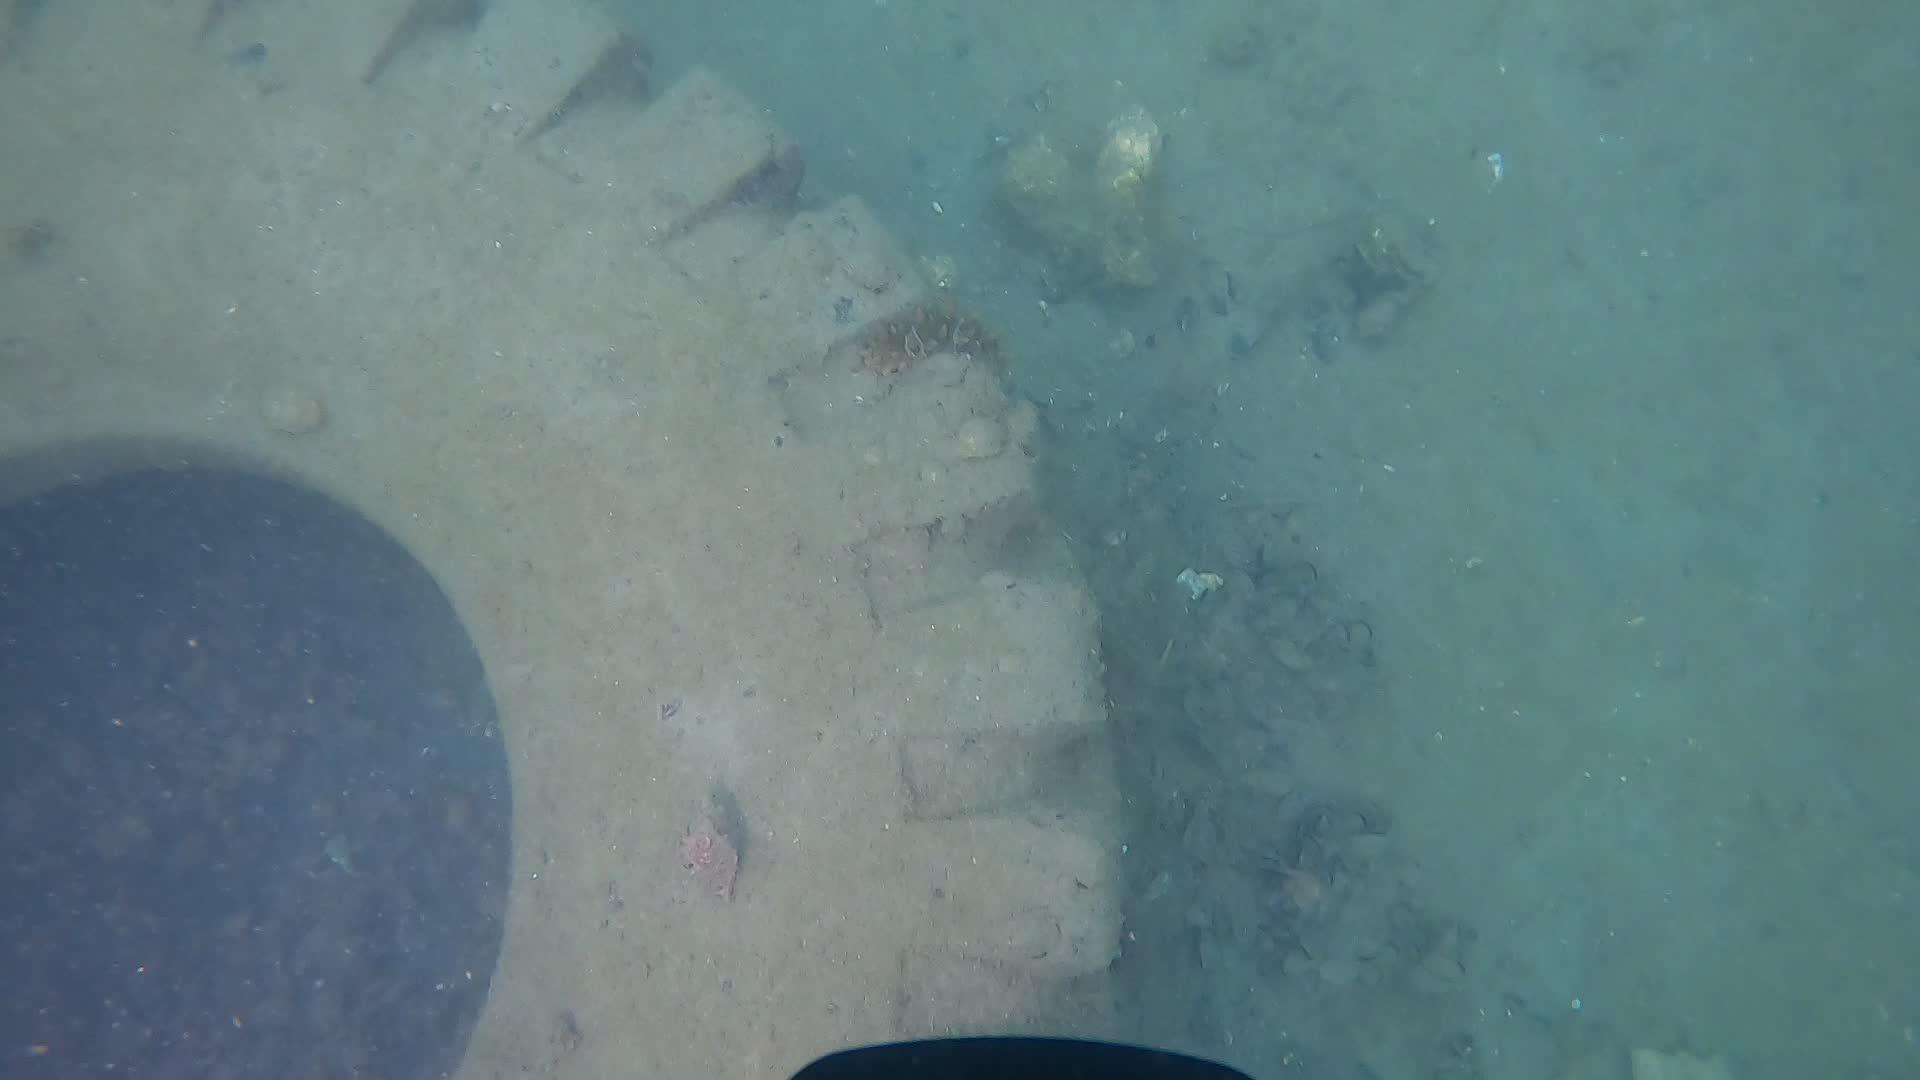tire: (0, 0, 1125, 1080)
